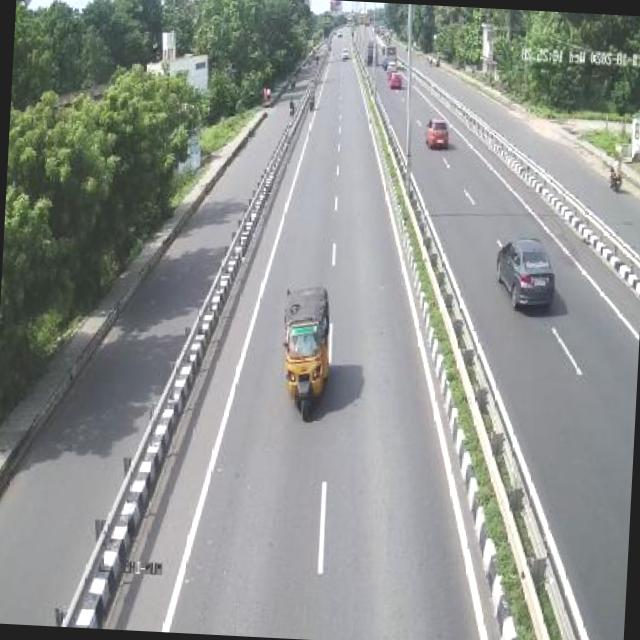car: (421, 113, 451, 154)
